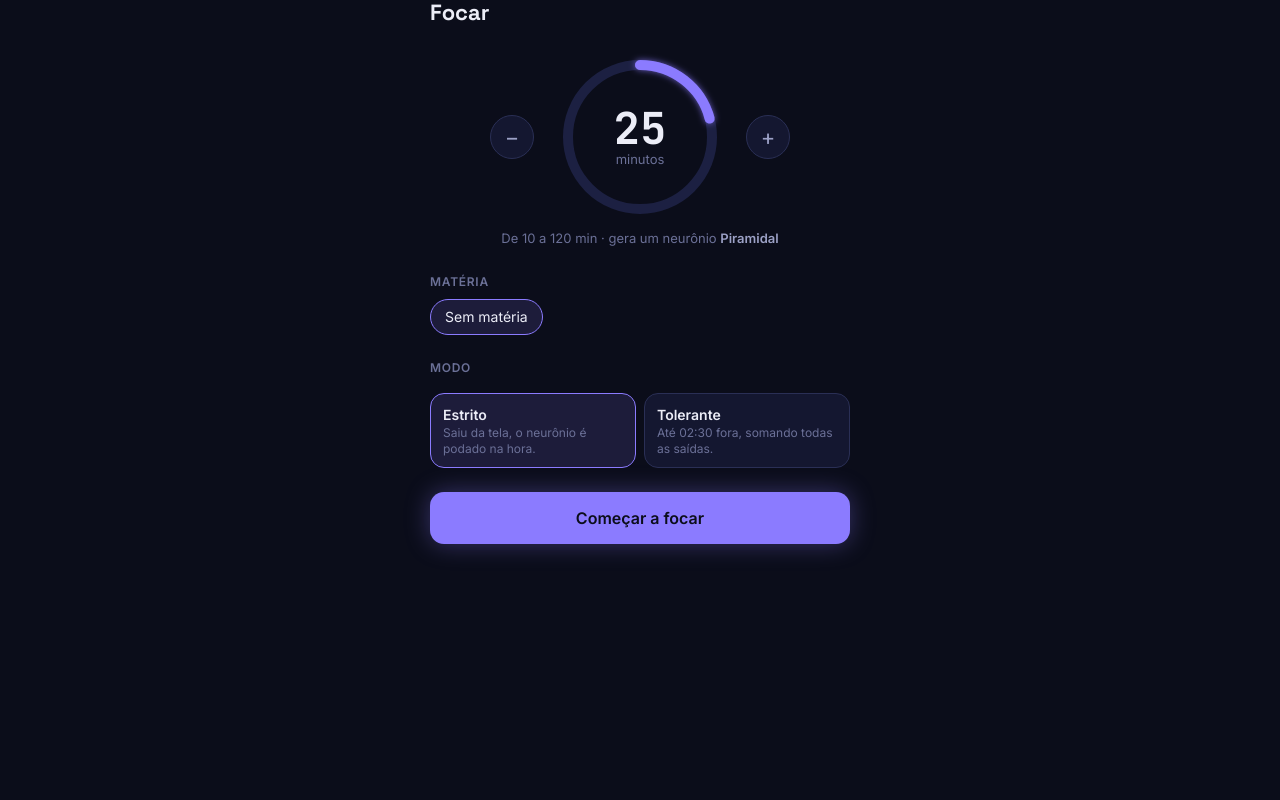
tela de foco › integração com a API (issue #20) › sem conexão ao começar, mostra o erro e deixa tentar de novo
This screenshot has width=1280, height=800.
Click the button "Começar a focar". click: (640,518)
box: [430, 492, 850, 544]
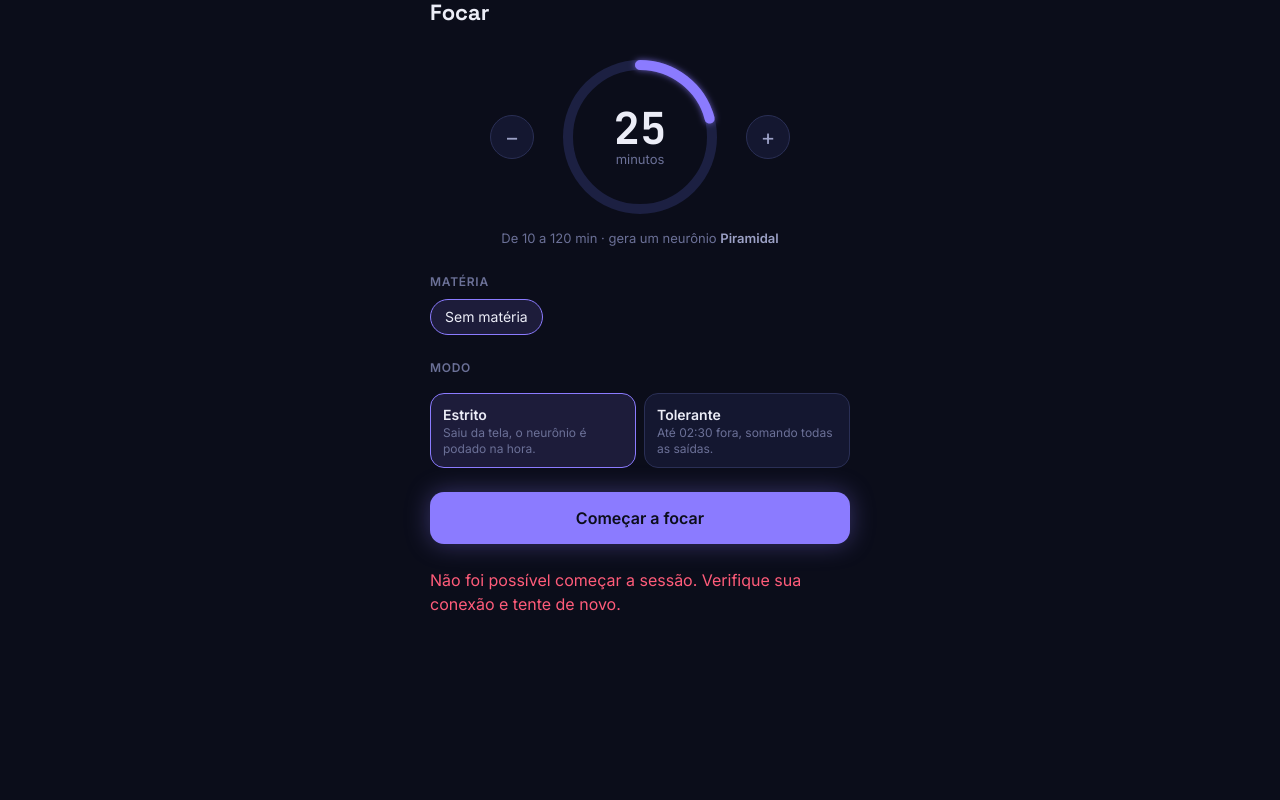
Result: the message reads "Não foi possível começar a sessão. Verifique sua conexão e tente de novo." at [430, 570, 801, 614]
Click the button "Começar a focar". click: (640,518)
box: [430, 492, 850, 544]
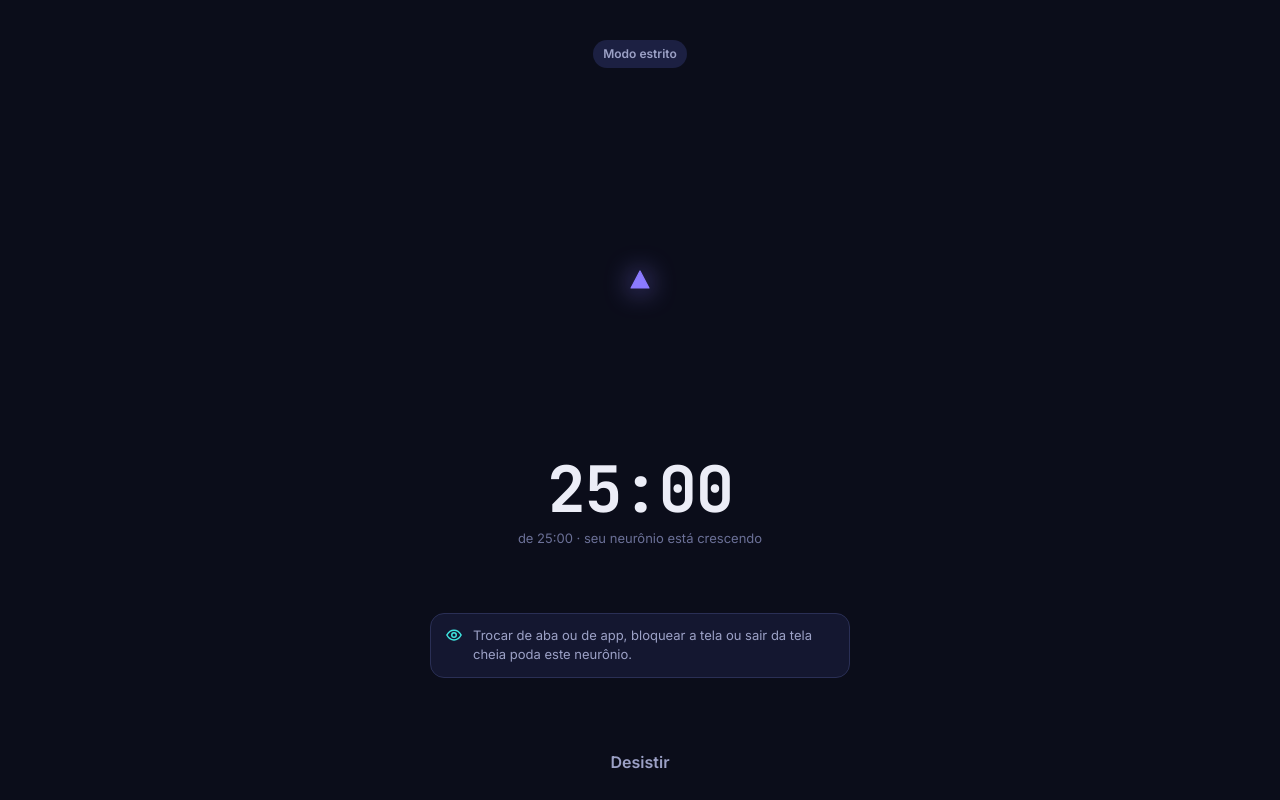
Result: the text "25:00" is shown at [547, 447, 733, 531]
Result: the message "Não foi possível começar a sessão. Verifique sua conexão e tente de novo." is gone
